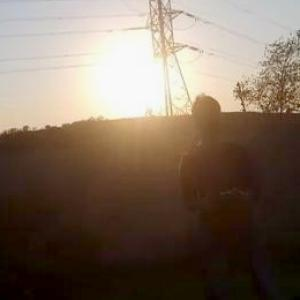follow: (174, 89, 266, 299)
